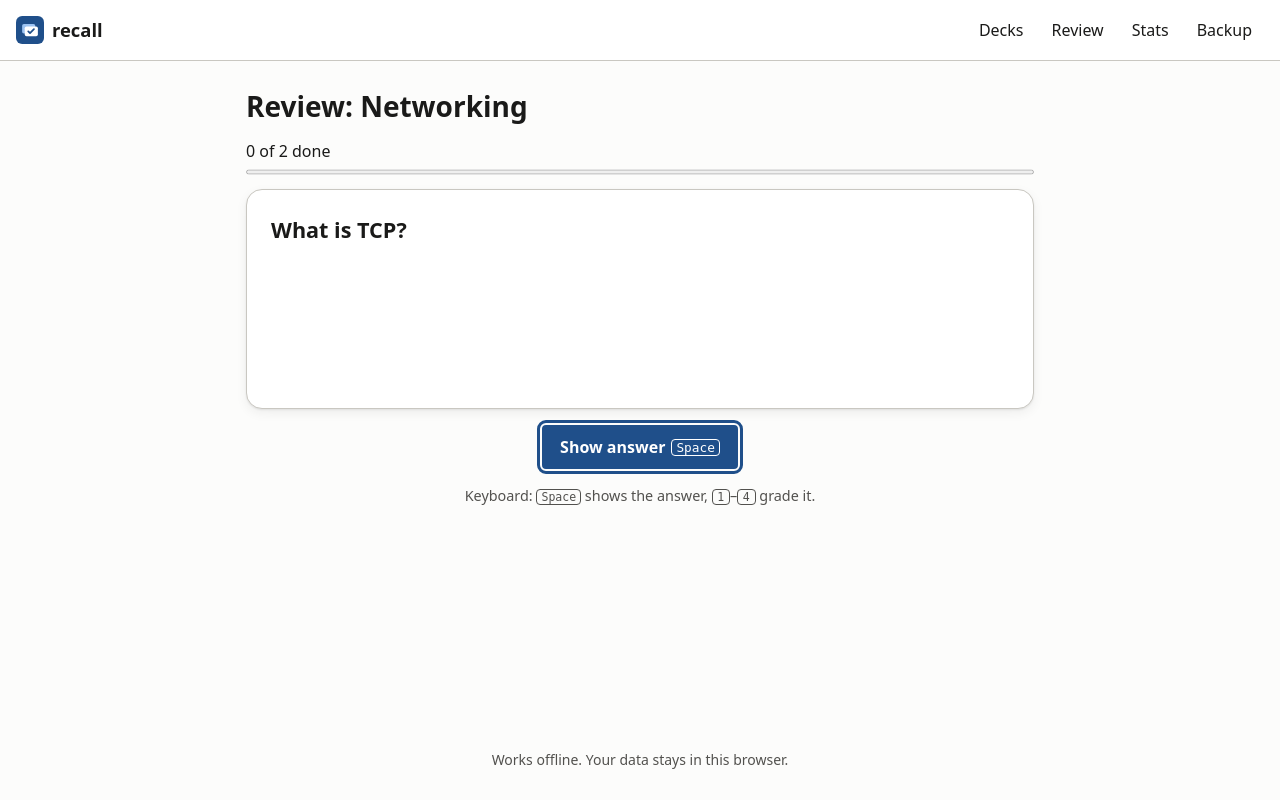
ReviewSession (keyboard) › can be driven with the on-screen buttons too
Expected: the heading "Review: Networking" is shown, [246,87,528,125]
Click the button "Show answer Space" at (640, 447), box [542,425,738,469]
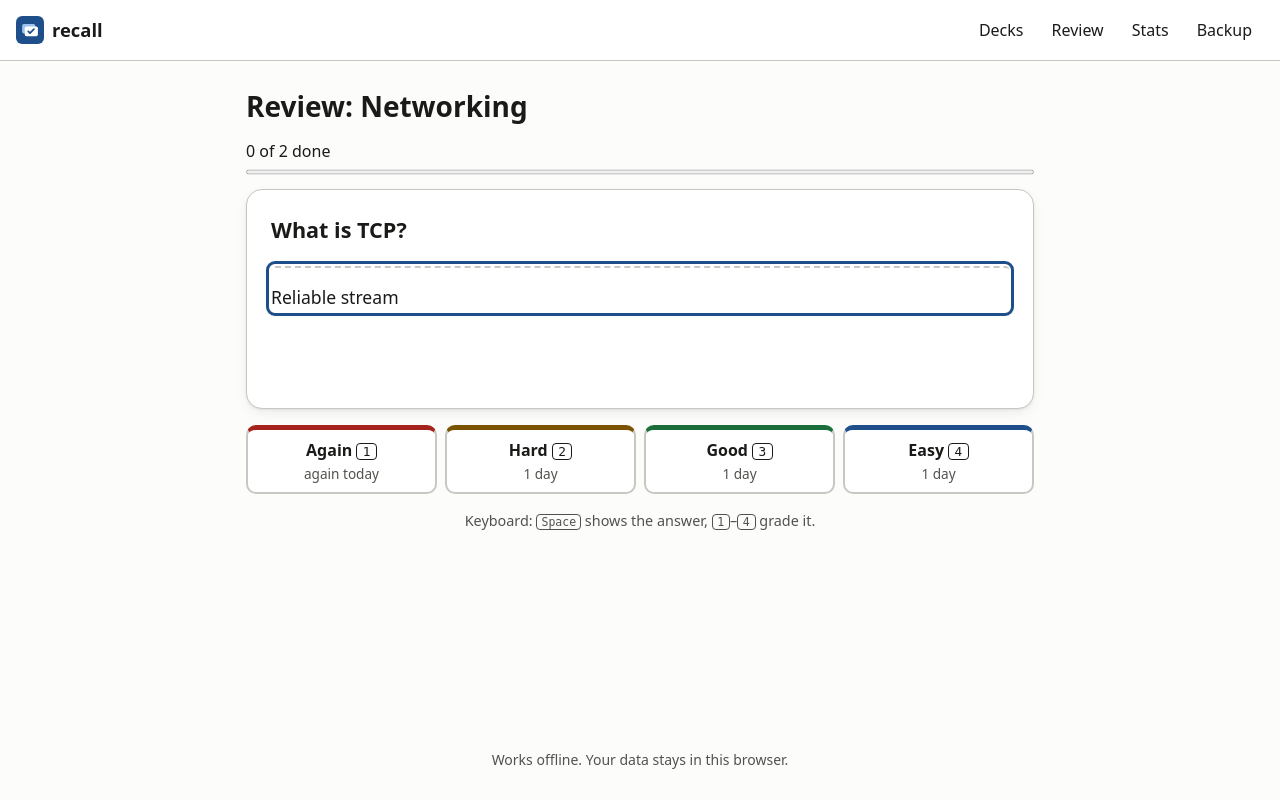
Click the button "Easy 4 1 day" at (938, 460), box [843,425,1034,494]
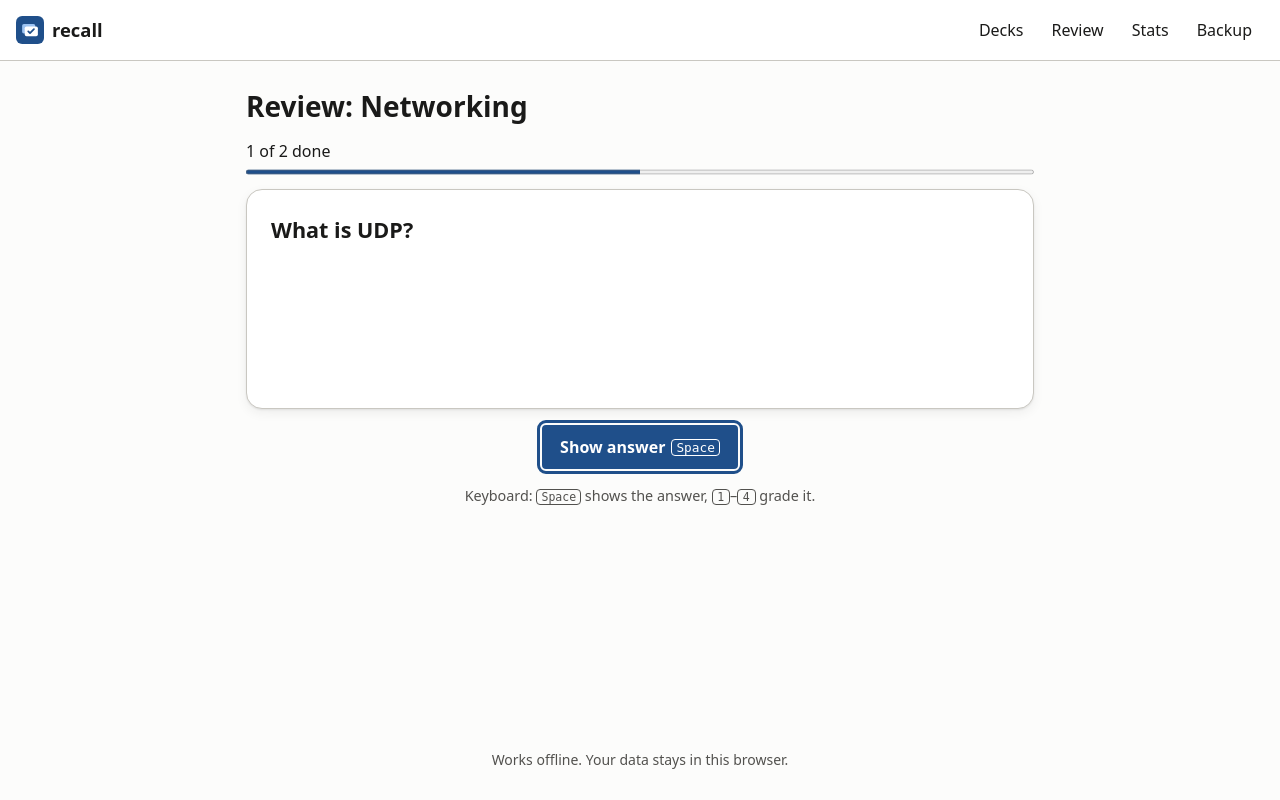
Now the text with test id "card-front" reads "What is UDP?", box [271,215,413,244]
